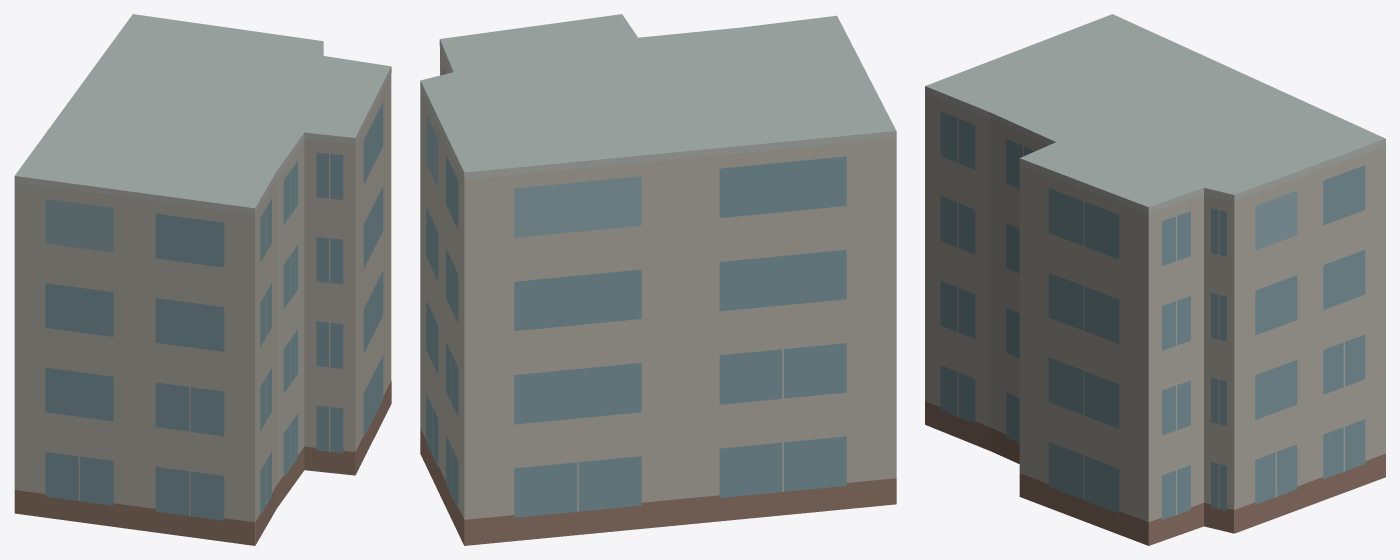
The model's file is survey-upis-32624698.glb.
The picture shows the model from 3 angles, left to right: view 1: azimuth 30°, elevation 25°; view 2: azimuth 150°, elevation 25°; view 3: azimuth 270°, elevation 25°; orthographic projection. The views are drawn at different scales.
Parts seen in each view (by area): view 1: survey-upis-32624698.tmp; view 2: survey-upis-32624698.tmp; view 3: survey-upis-32624698.tmp.
Boxes of the visible parts, <box> form: survey-upis-32624698.tmp: <box>14,14,391,545</box>; survey-upis-32624698.tmp: <box>420,14,896,545</box>; survey-upis-32624698.tmp: <box>925,14,1385,545</box>.
Size of the model in its own units: 15.68 by 12.8 by 15.79.
